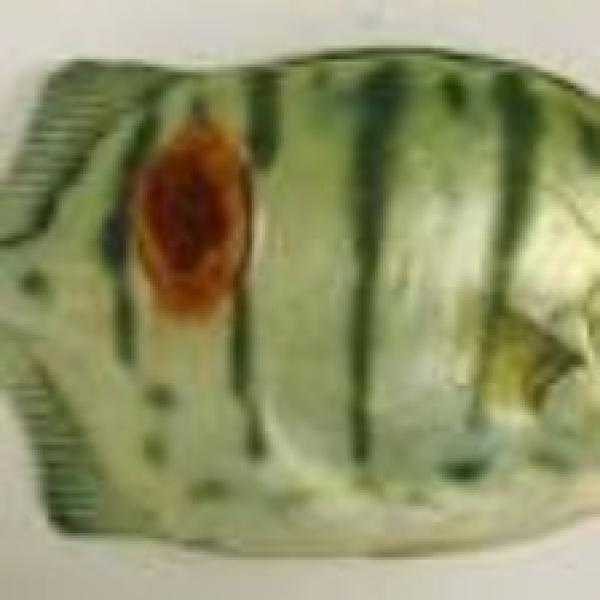bacterial_red: (130, 125, 249, 307)
